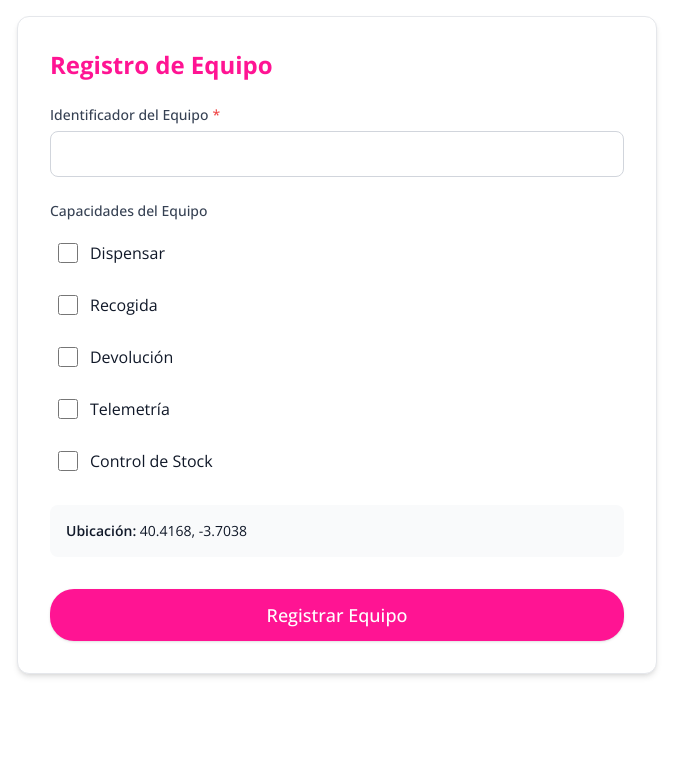
Test: DeviceRegistration Component › should display error message when registration fails
Type "DEV001" into the field labelled "Identificador del Equipo*".
click(337, 154); type("DEV001")  # box top-left (50, 131), bottom-right (624, 177)
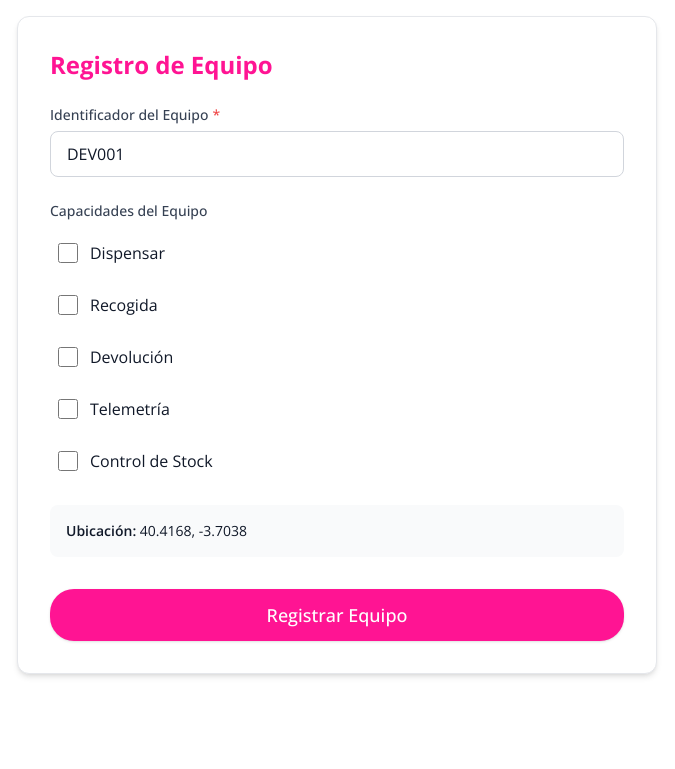
Click the button "Registrar Equipo".
click(337, 615)  # box top-left (50, 589), bottom-right (624, 641)
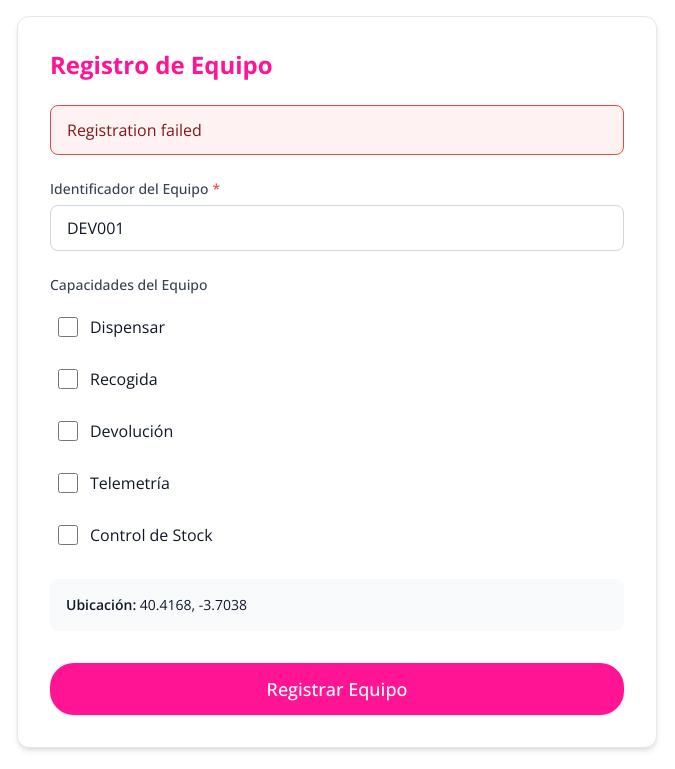
Now the text "Registration failed" is shown, box top-left (67, 119), bottom-right (202, 141)
